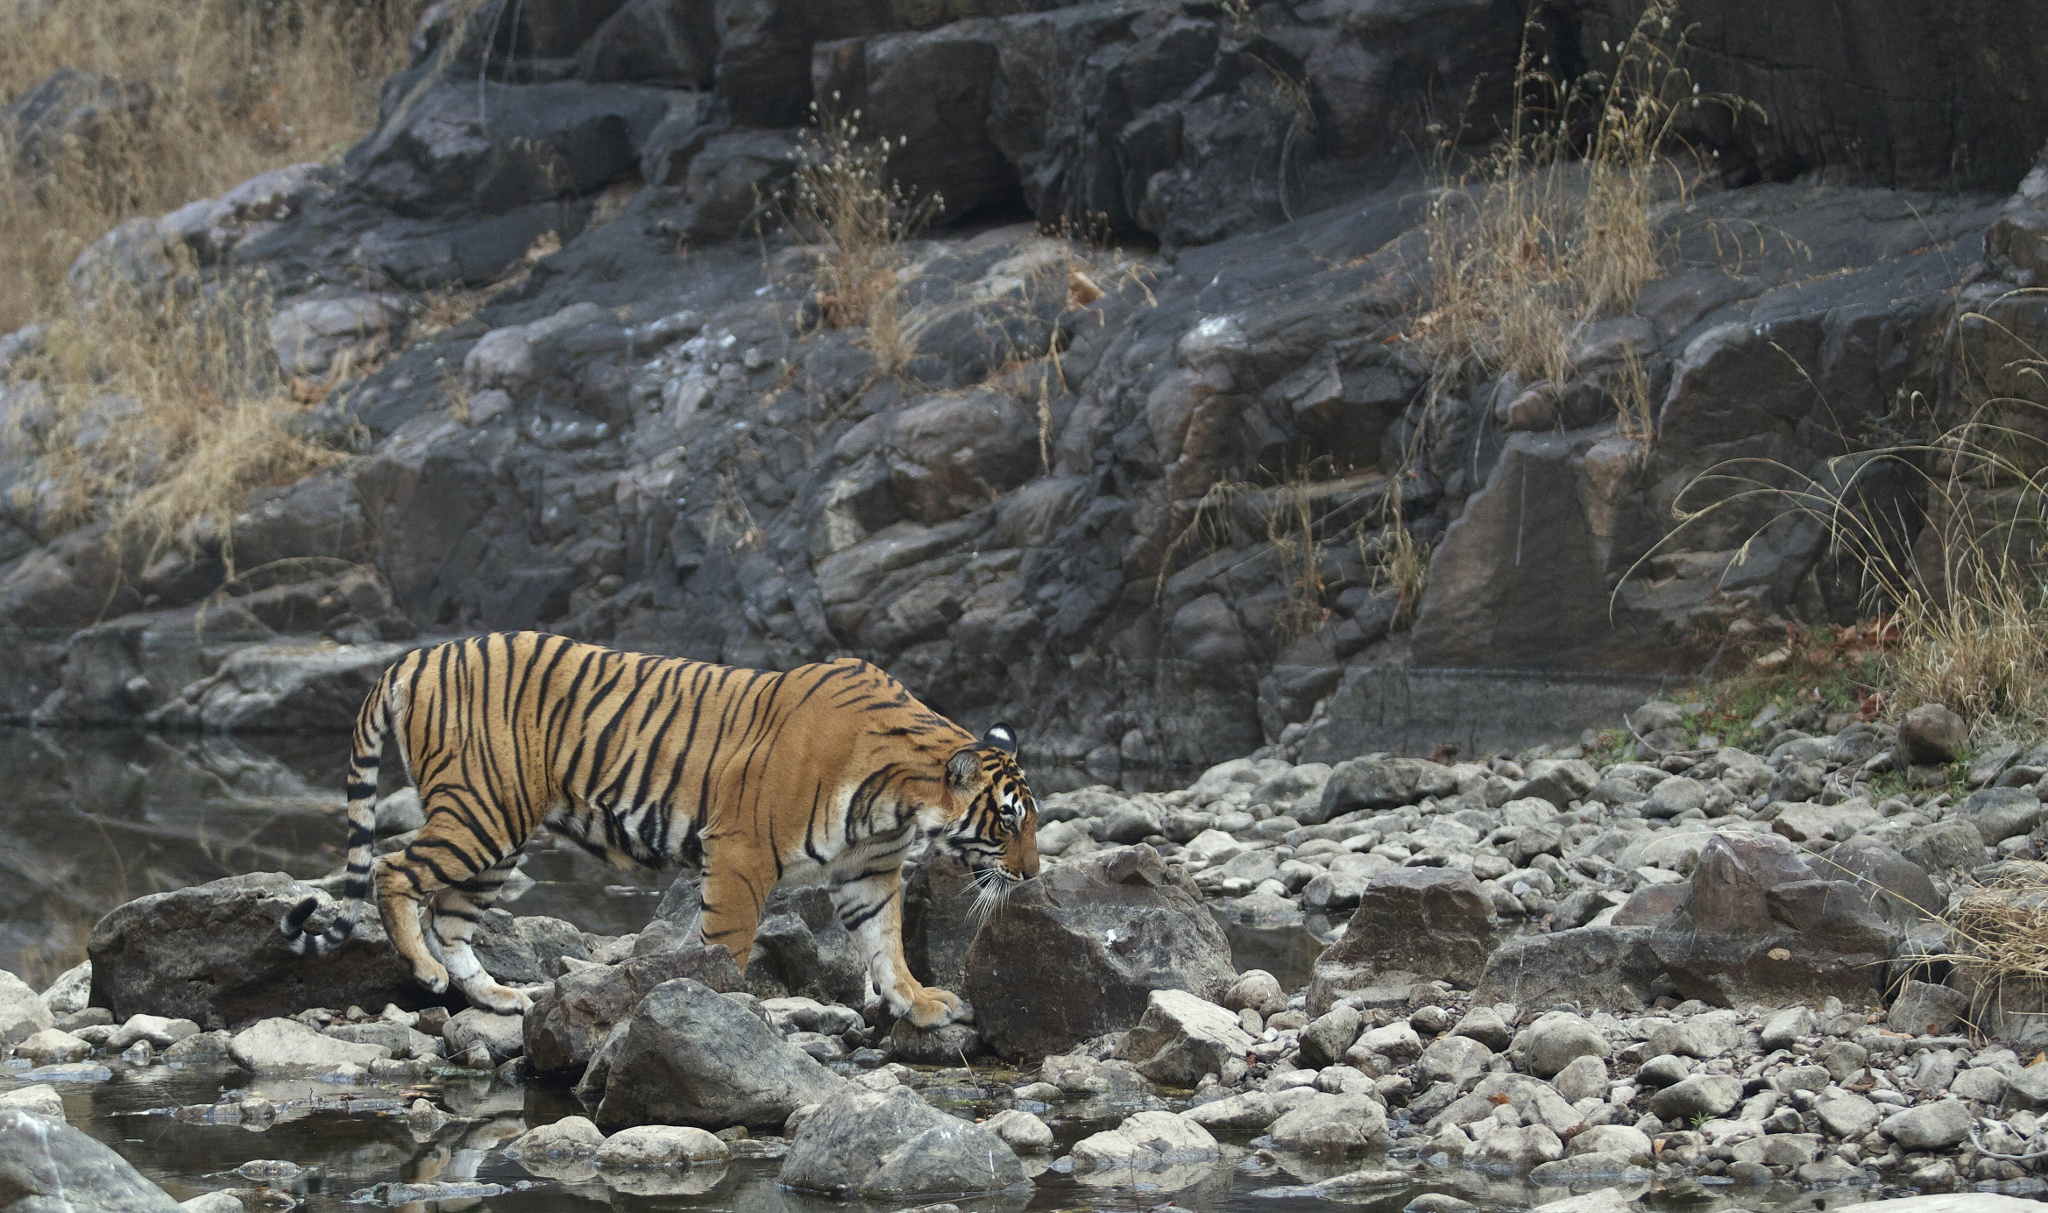tiger: (280, 619, 1078, 1105)
